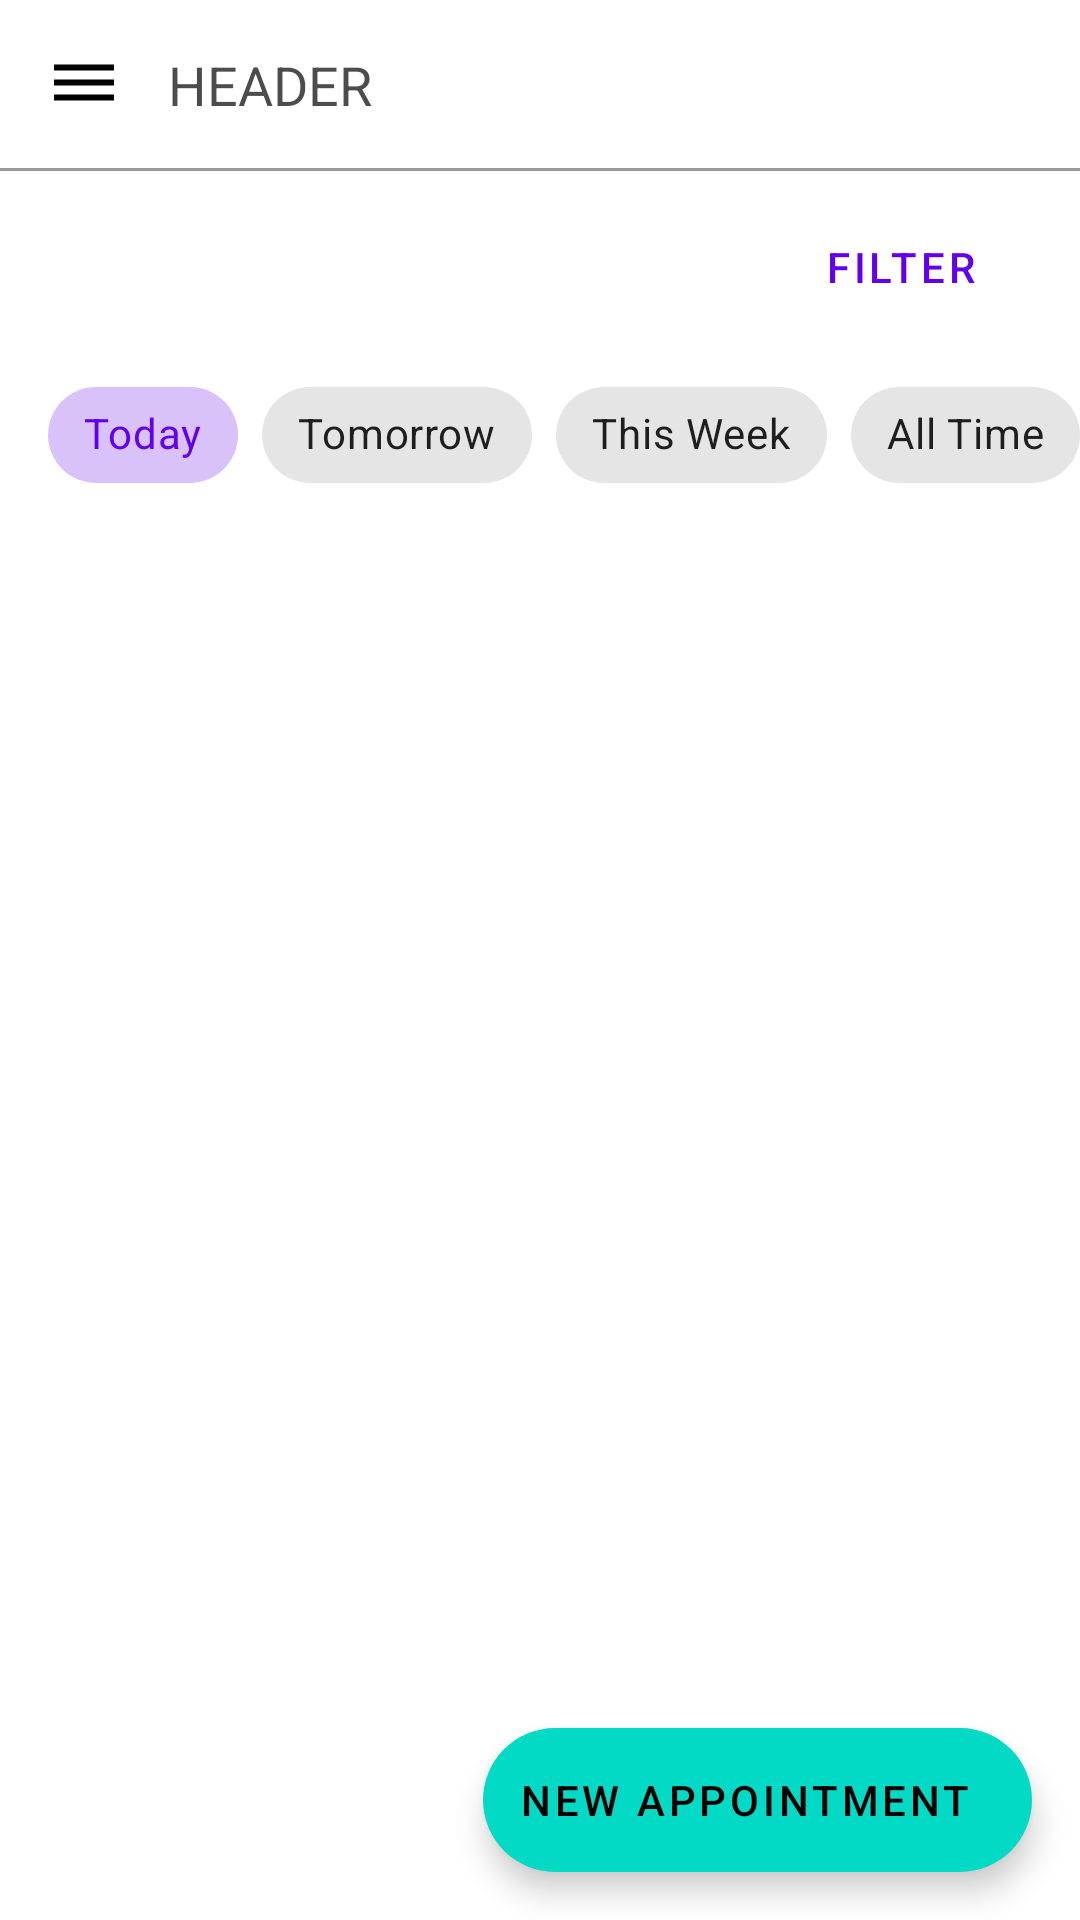

Icons on this 1080 x 1920 Android screen, each with its box as (x1, y1, x2, y2):
menu: (54, 64, 114, 101)
